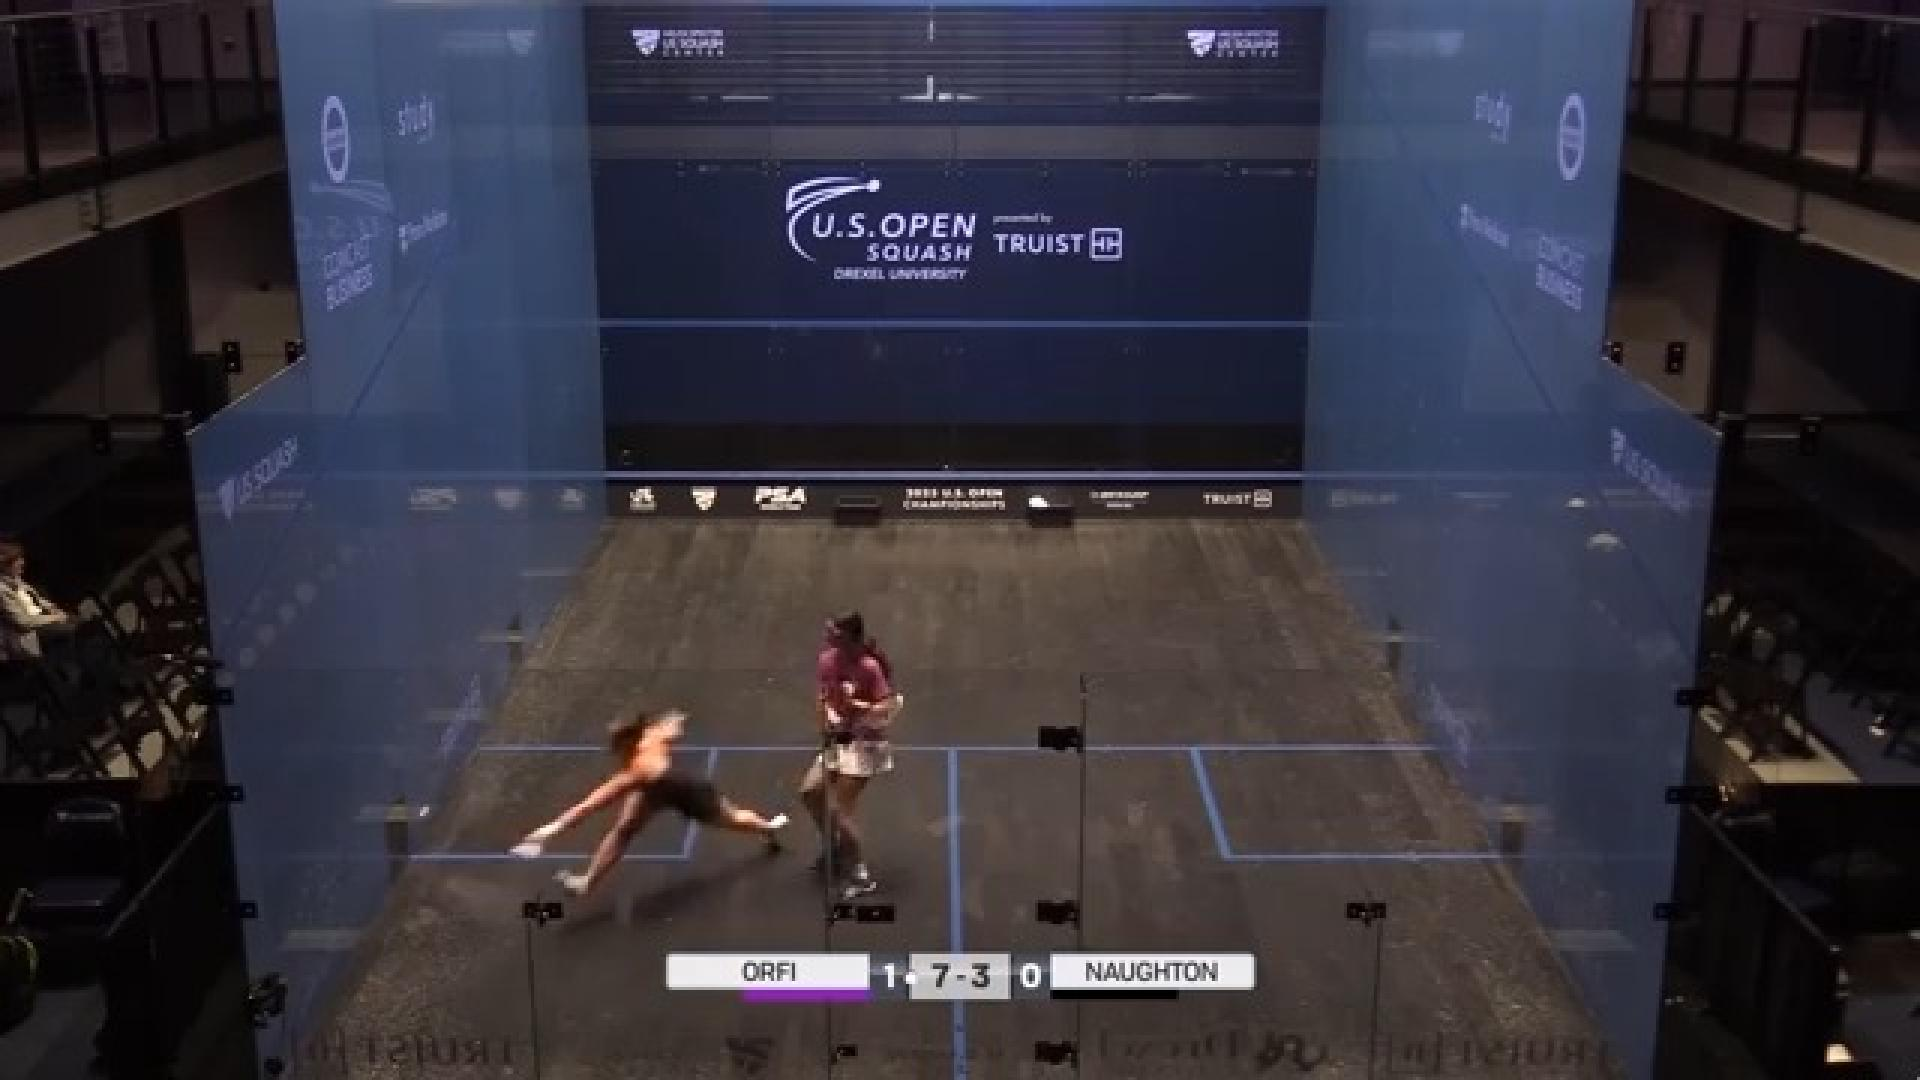Squash-Ball: (407, 794, 446, 832)
